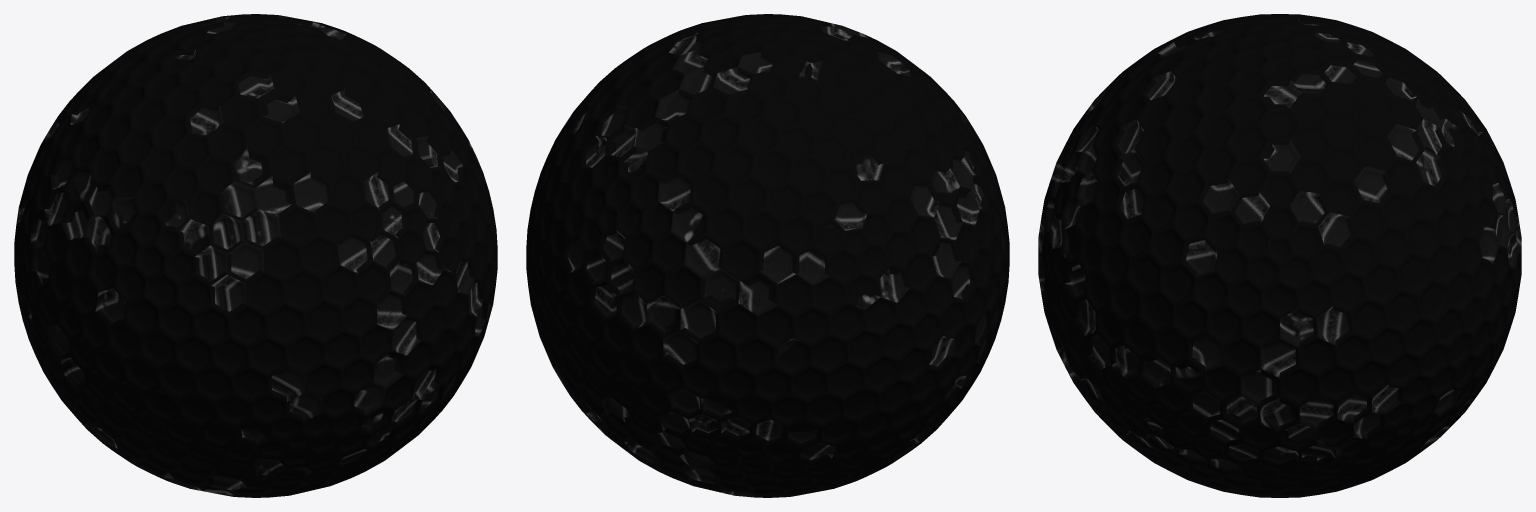
File: HexiBall.fbx
The picture shows the model from 3 angles, left to right: view 1: azimuth 30°, elevation 25°; view 2: azimuth 150°, elevation 25°; view 3: azimuth 270°, elevation 25°; orthographic projection.
Parts seen in each view (by area): view 1: GolfBall; view 2: GolfBall; view 3: GolfBall.
Part boxes in pixels (x1,y1,x2,y2): GolfBall: [14, 14, 497, 497]; GolfBall: [526, 14, 1009, 497]; GolfBall: [1038, 14, 1521, 497].
Size of the model in its own units: 37.86 by 38 by 37.87.
Materials: 1 (1 with a texture image).
